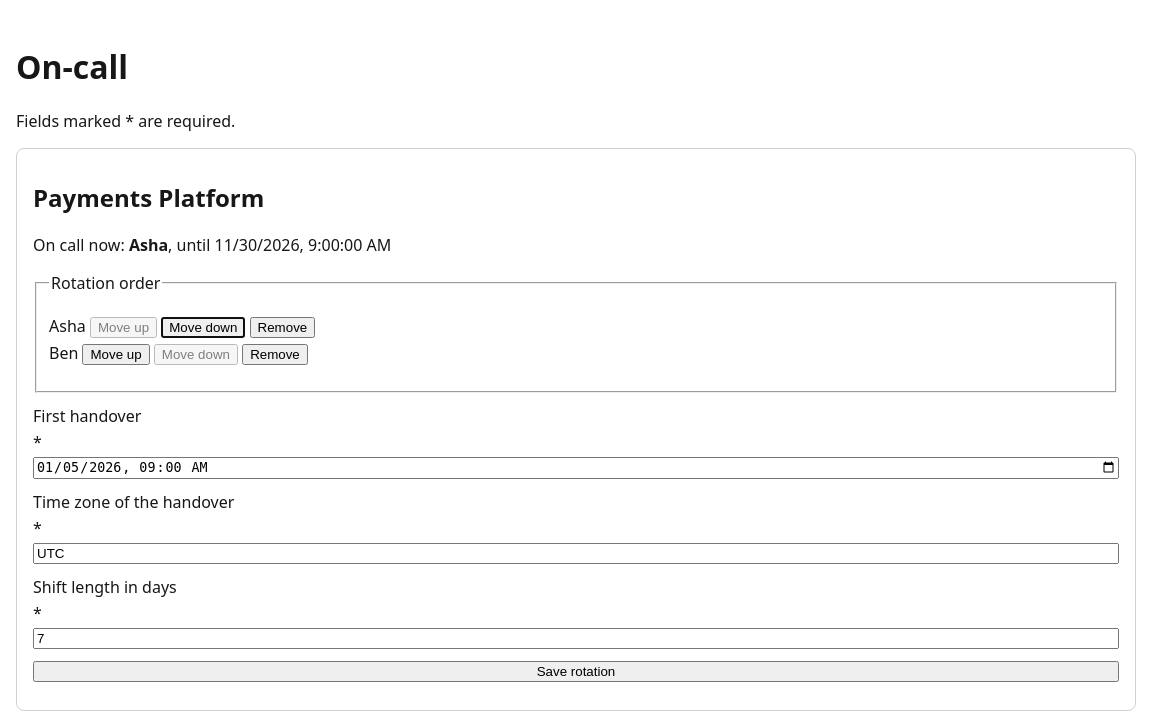
reorders the rotation in place, keeps focus on the button and announces it once
The image size is (1152, 720).
Click the button with aria-label "Move down Asha": (203, 328) left=161, top=317, right=245, bottom=338
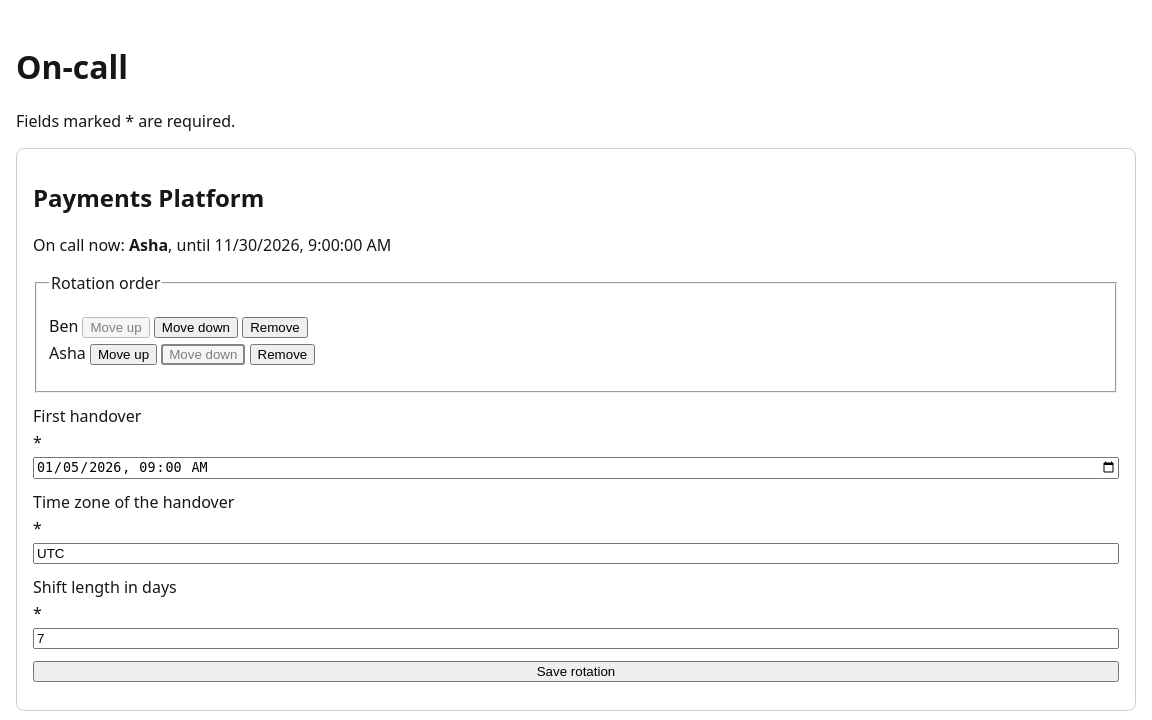
Now the button with aria-label "Move down Asha" is disabled, box left=161, top=344, right=245, bottom=365
